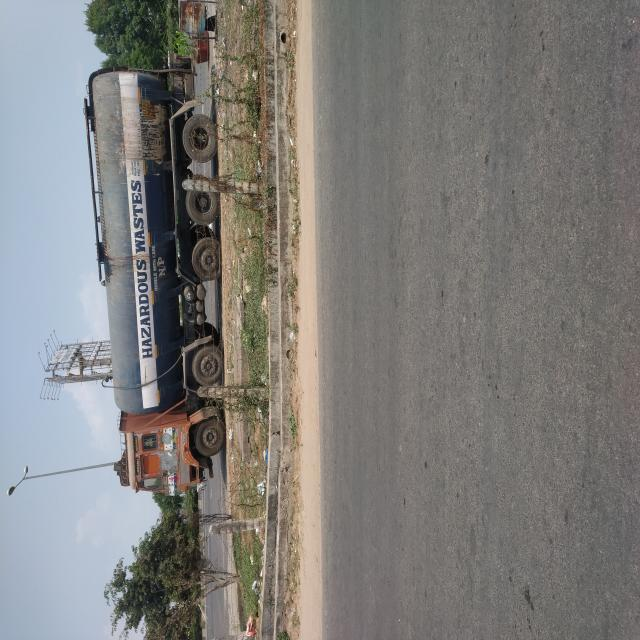Truck: (110, 110, 452, 288)
